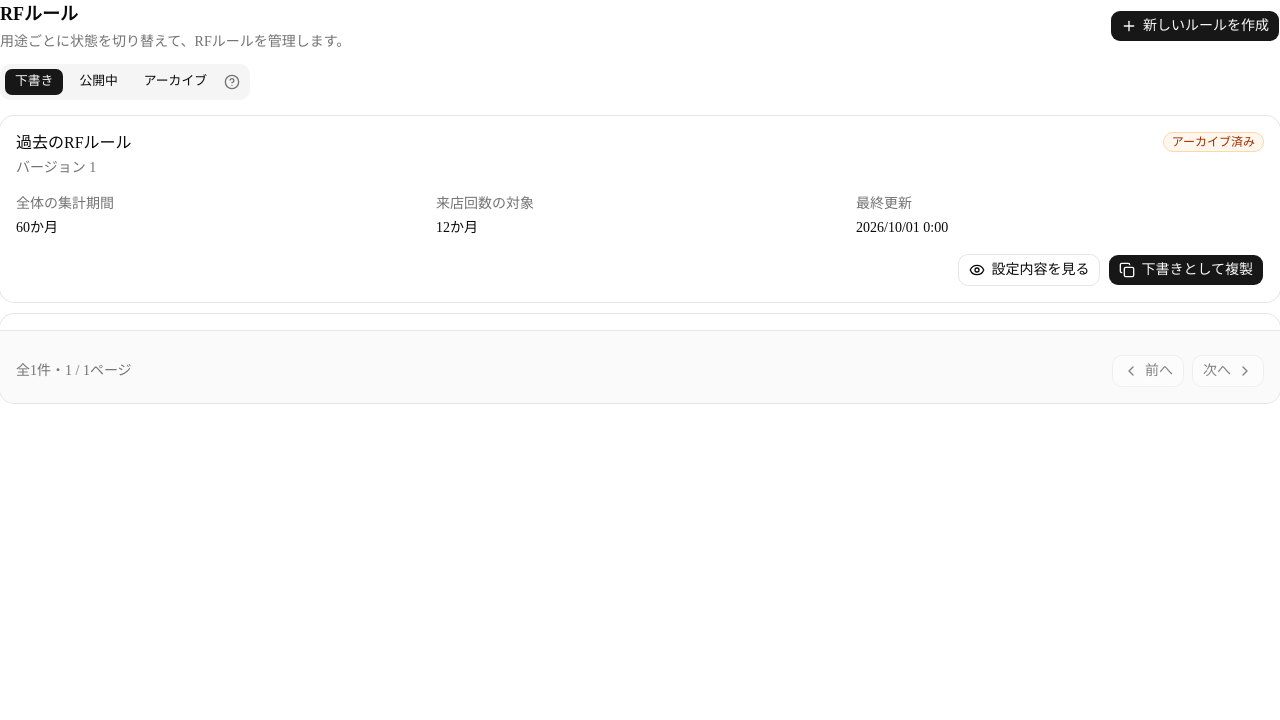
Test: RfRuleSetsSection › アーカイブ済みルールの用途と設定内容を確認できる
The image size is (1280, 720).
Click the button "設定内容を見る": click(1029, 270) [958,254,1100,286]
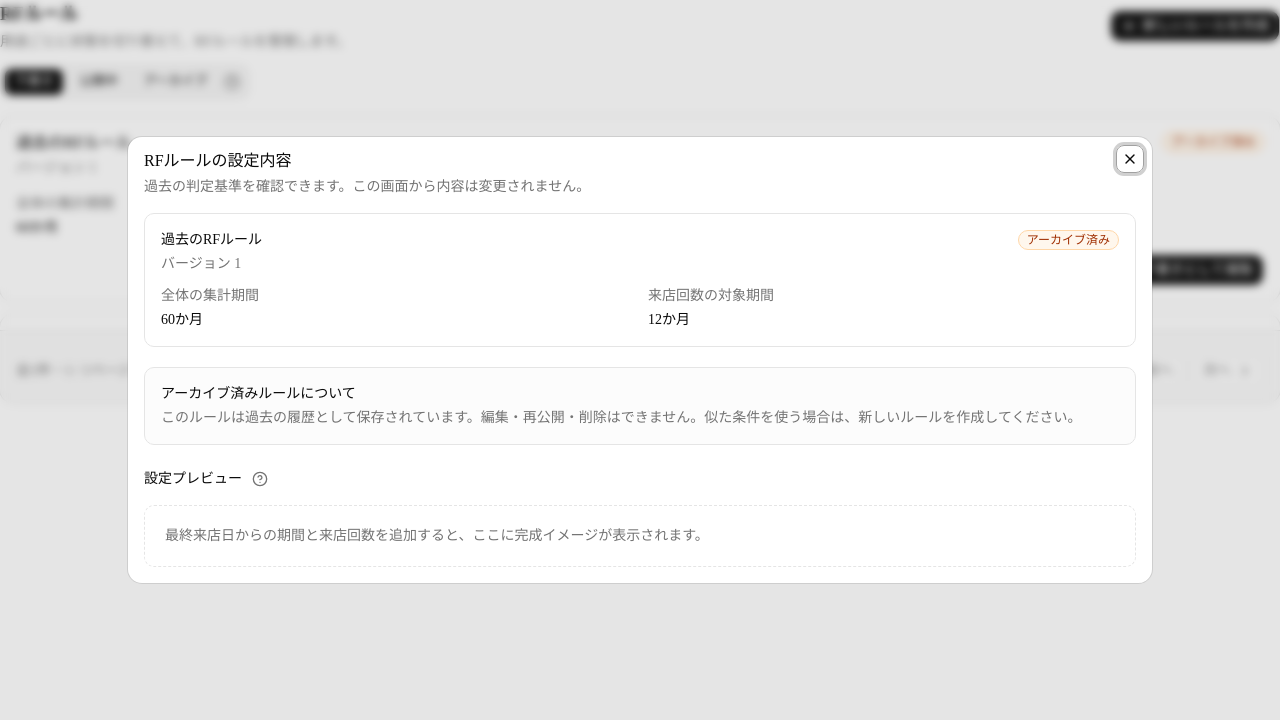
expect the dialog "RFルールの設定内容" shows "このルールは過去の履歴として保存されています。編集・再公開・削除はできません。": met, box [161,410,1082,425]
